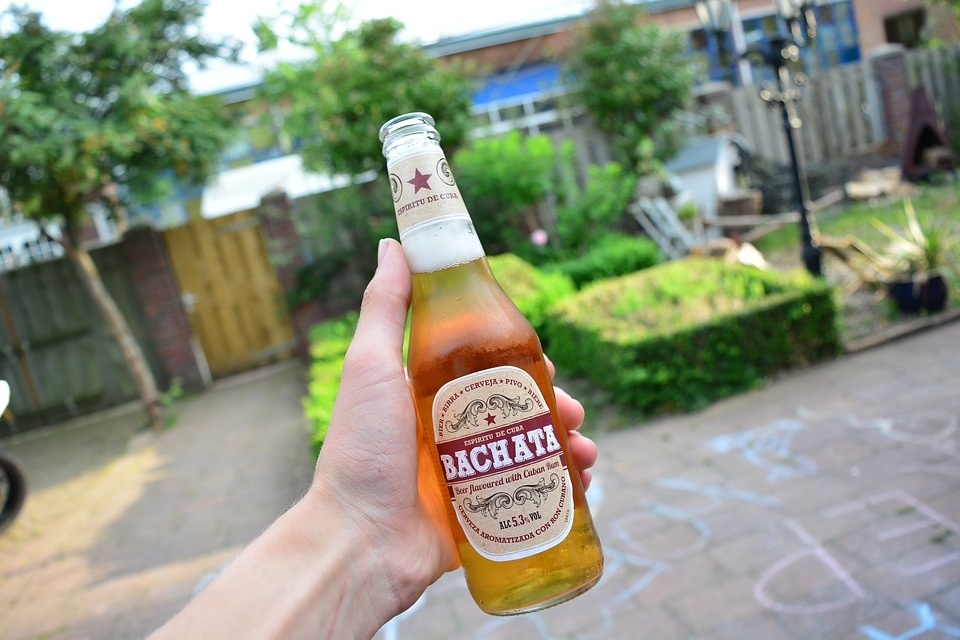beerBottle: (380, 111, 609, 605)
